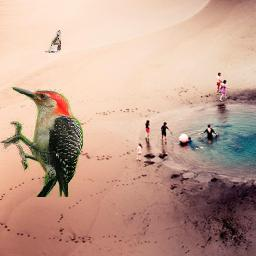Cuckoo: (45, 31, 61, 54)
Woodpecker: (0, 87, 83, 197)
